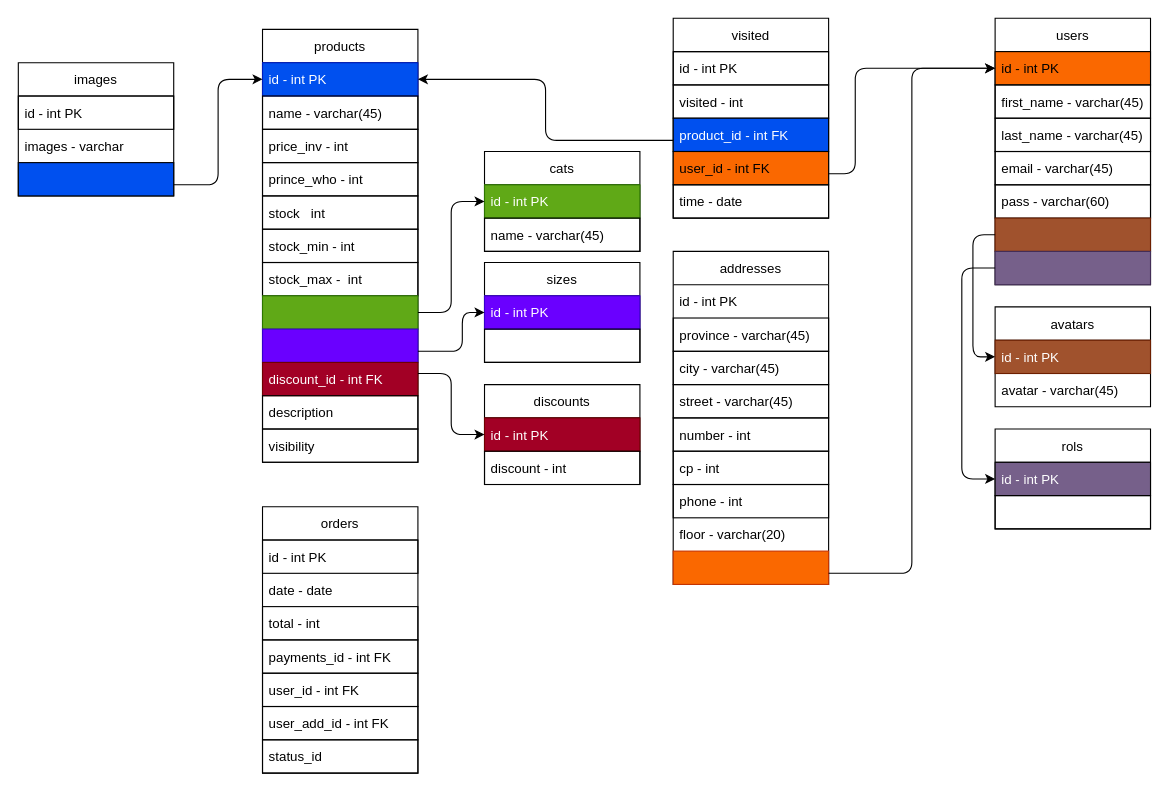
Image size: 1169x791. Some labels were removed from this diagram. The shapes that lost their labels are listed below. From the top down, each one's centre as x and y in pixels, then its label:
At (95,179): "id_products int FK".
At (1072,234): "avatar_id - int FK".
At (1072,267): "rol_id - int FK".
At (339,312): "cat_id - int FK".
At (339,345): "sizes_id - int FK".
At (561,345): "size - varchar(45)".
At (1072,512): "rol - varchar(45)".
At (750,567): "id_user - int FK".
